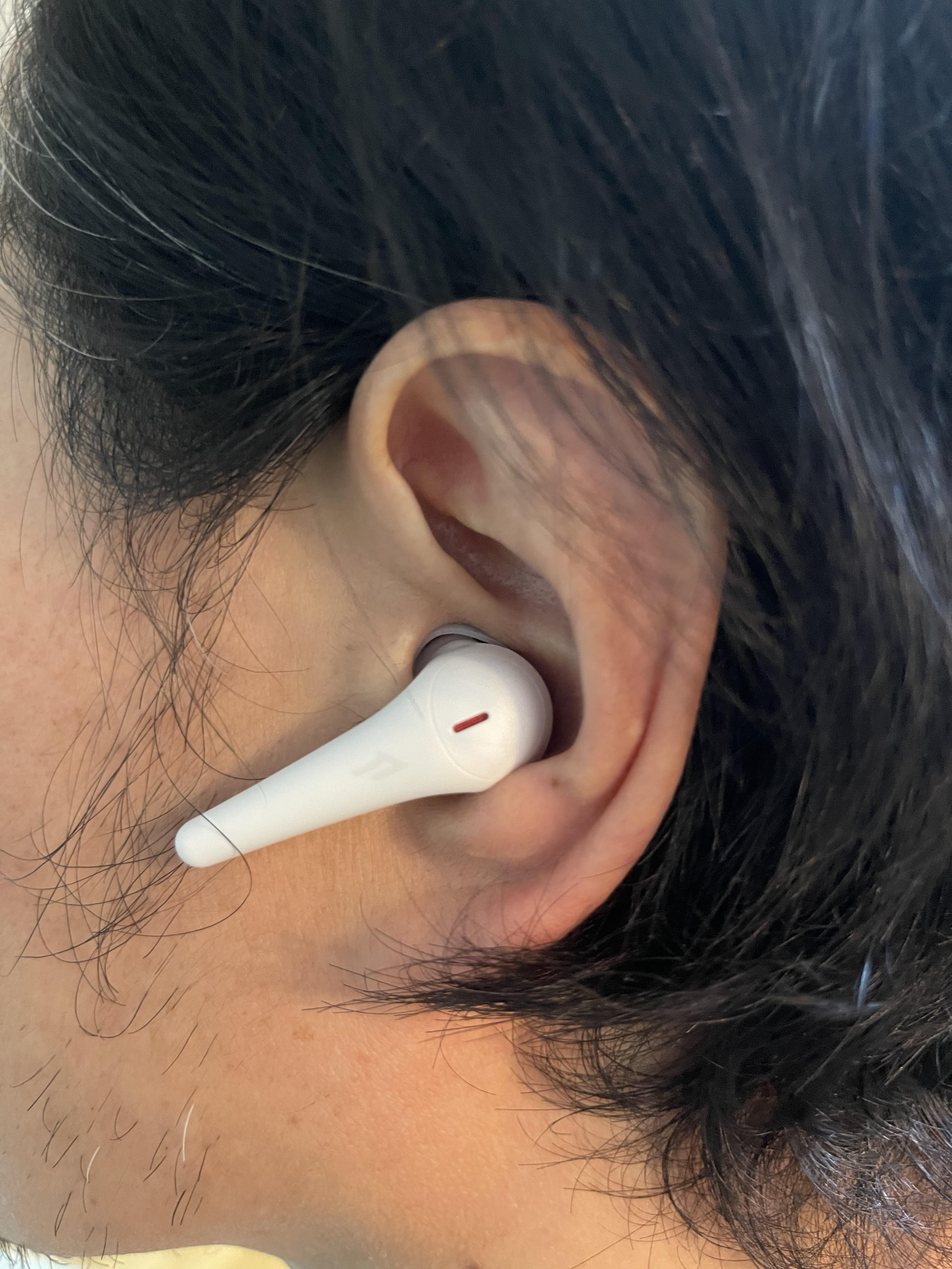earphone: (142, 624, 571, 872)
